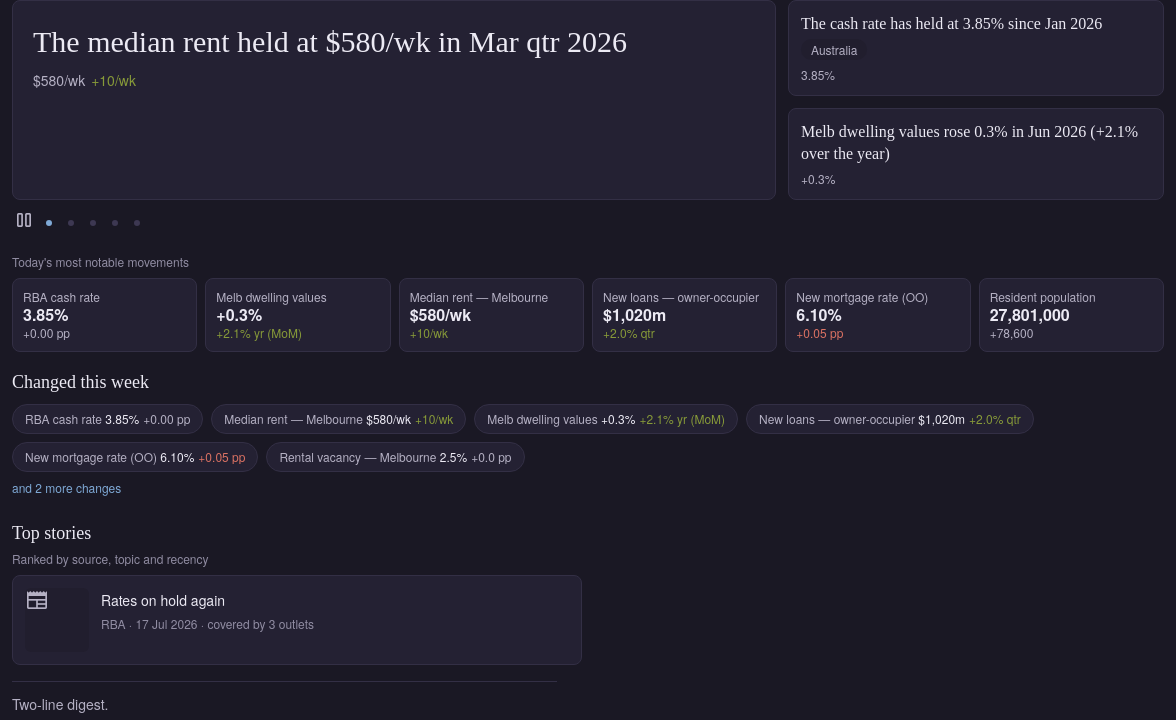
Test case: changed-this-week caps at 6 chips with an "and N more" disclosure
The image size is (1176, 720).
Expected: the number of list items is 6, 12,404 -> 203,434; 211,404 -> 466,434; 474,404 -> 738,434; 746,404 -> 1034,434; 12,442 -> 258,472; 266,442 -> 524,472
Click the button "and 2 more changes" at (67, 488), box 12,480 -> 121,496
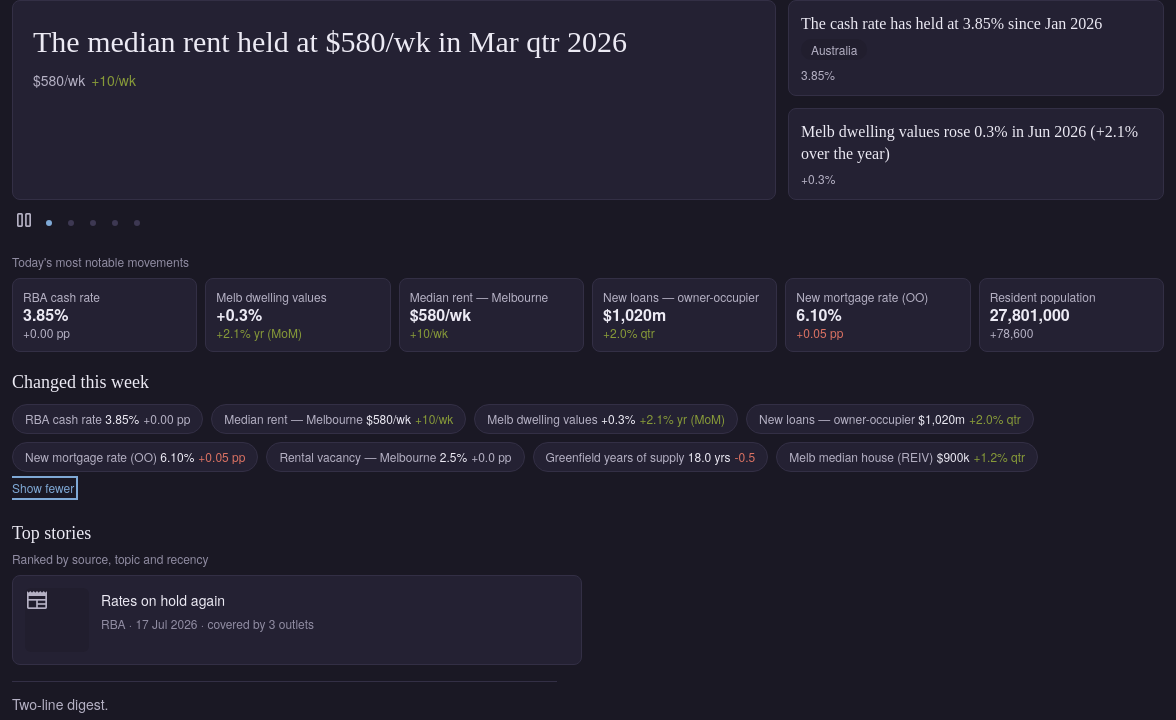
Expected: the number of list items is 8
Expected: the button "Show fewer" is shown, 12,480 -> 74,496
